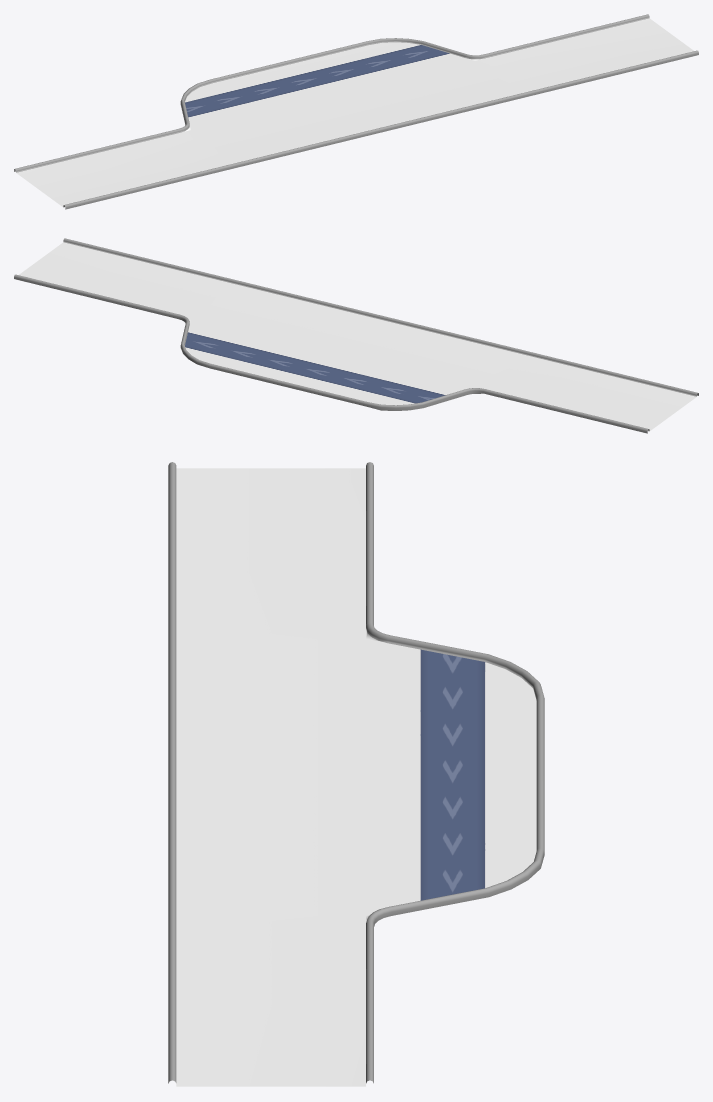
Rendered from Road1.fbx.
3 renders of one model, top to bottom at view 1: azimuth 30°, elevation 25°; view 2: azimuth 150°, elevation 25°; view 3: azimuth 270°, elevation 25°, orthographic. The views are drawn at different scales.
Parts seen in each view (by area): view 1: Road1; view 2: Road1; view 3: Road1.
Part boxes in pixels (x1,y1,x2,y2): Road1: (14,14,698,209); Road1: (14,238,698,433); Road1: (168,462,544,1086).
Size of the model in its own units: 16061 by 122 by 4128.
2 materials, 1 textured.
